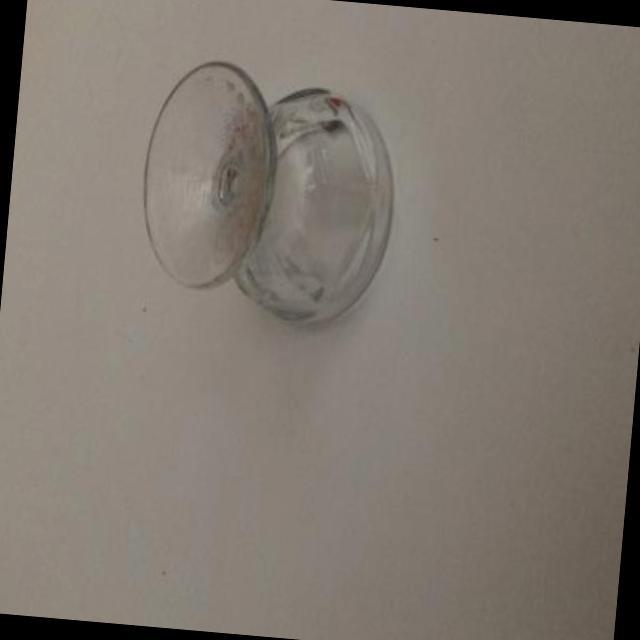chai_thuy_tinh: (142, 60, 394, 326)
